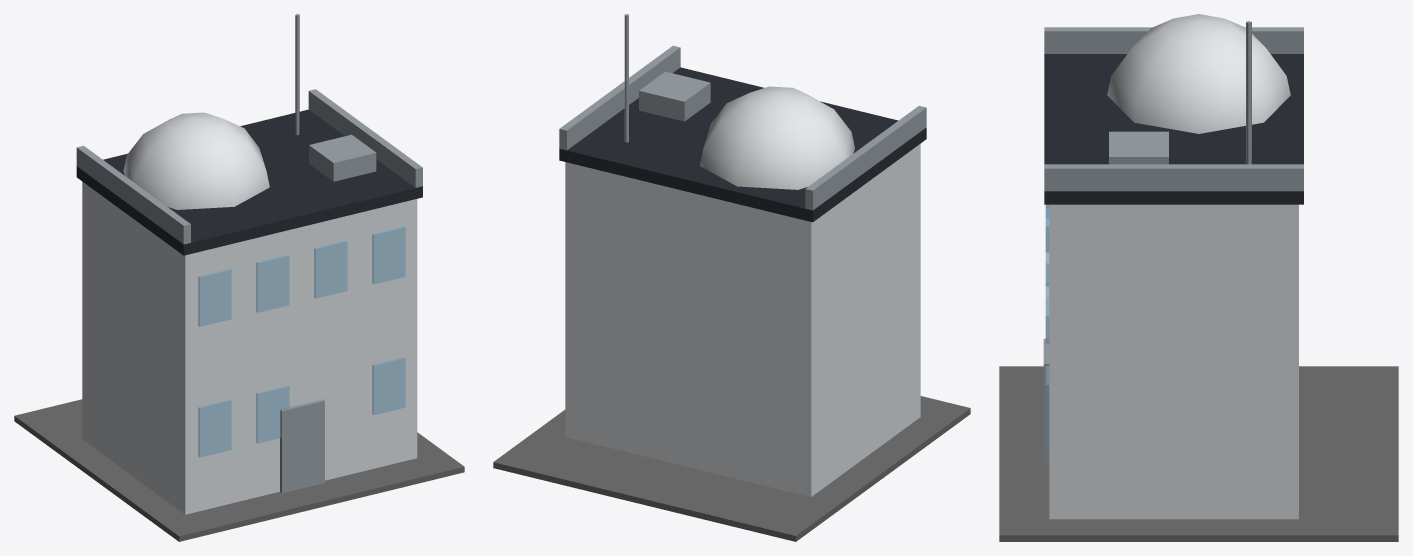
Rendered from bld_special_laboratory_a08_lod1.glb.
3 renders of one model, left to right at view 1: azimuth 30°, elevation 25°; view 2: azimuth 150°, elevation 25°; view 3: azimuth 270°, elevation 25°, orthographic. The views are drawn at different scales.
Visible parts, largest first — view 1: body; view 2: body; view 3: body.
Part boxes in pixels (x1=…): body: x1=14, y1=14, x2=464, y2=541; body: x1=493, y1=14, x2=970, y2=541; body: x1=999, y1=14, x2=1398, y2=541.
Size of the model in its own units: 8 by 10.65 by 8.
